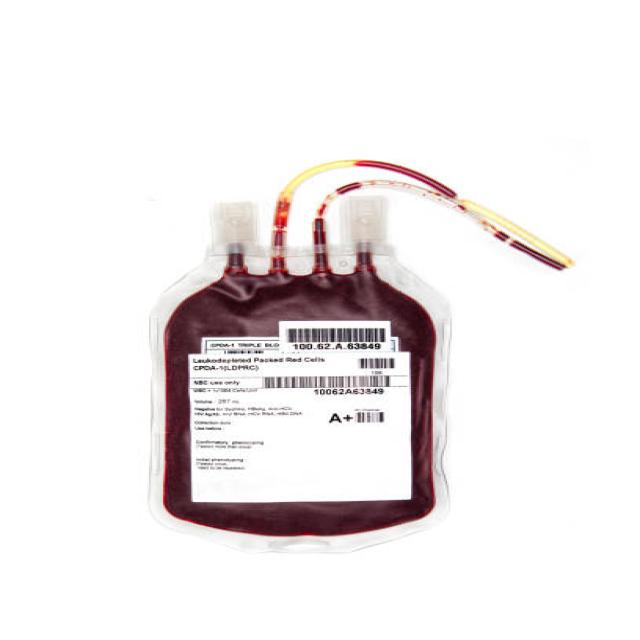B3: (142, 178, 474, 565)
